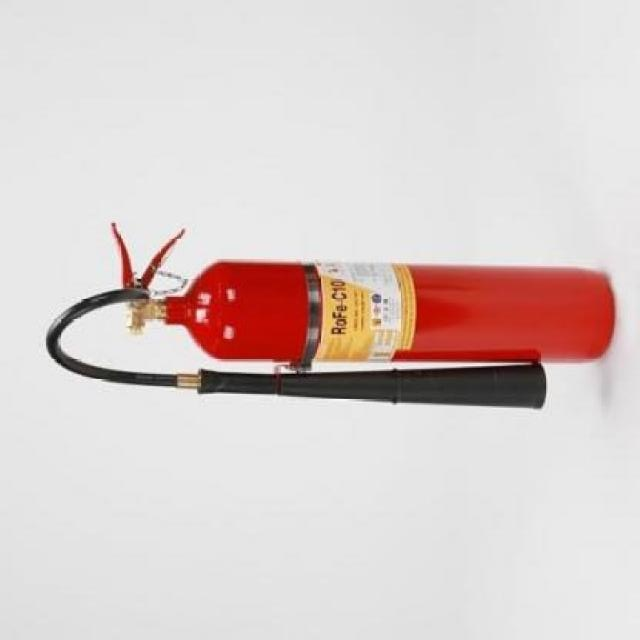fire extinguisher: (45, 222, 618, 409)
